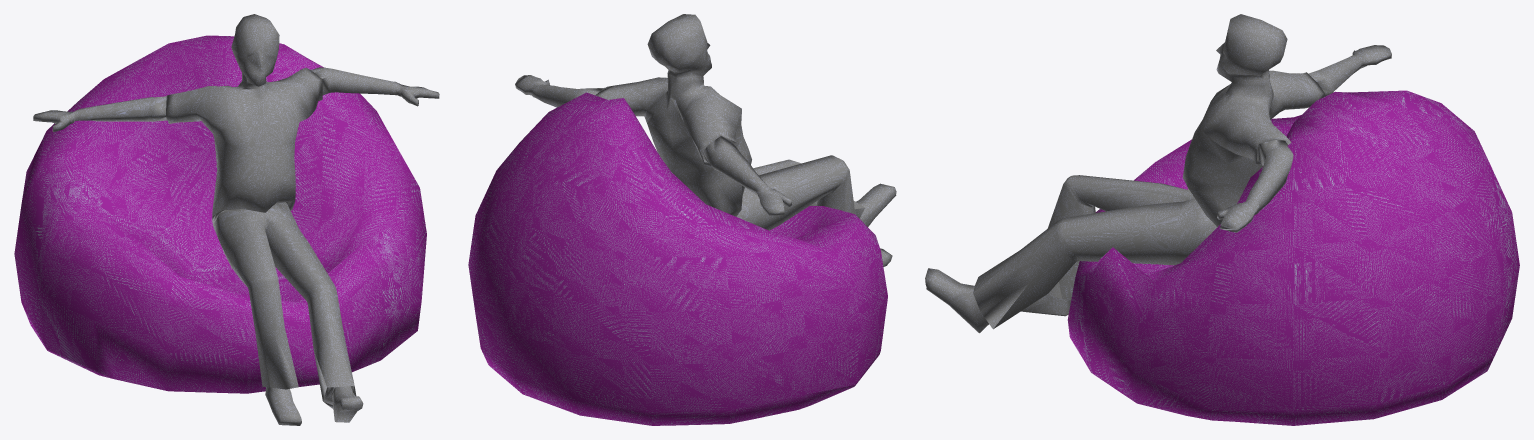
3 renders of one model, left to right at view 1: azimuth 30°, elevation 25°; view 2: azimuth 150°, elevation 25°; view 3: azimuth 270°, elevation 25°, orthographic. The views are drawn at different scales.
Visible parts, largest first — view 1: group_0 (×2); view 2: group_0 (×2); view 3: group_0 (×2).
Boxes of the visible parts, left/top/right/bottom form: group_0 (×2): left=14, top=14, right=439, bottom=425; group_0 (×2): left=468, top=14, right=896, bottom=425; group_0 (×2): left=925, top=14, right=1519, bottom=425.
Bounding box in the file's own units: 66.29 × 85.48 × 52.23.
